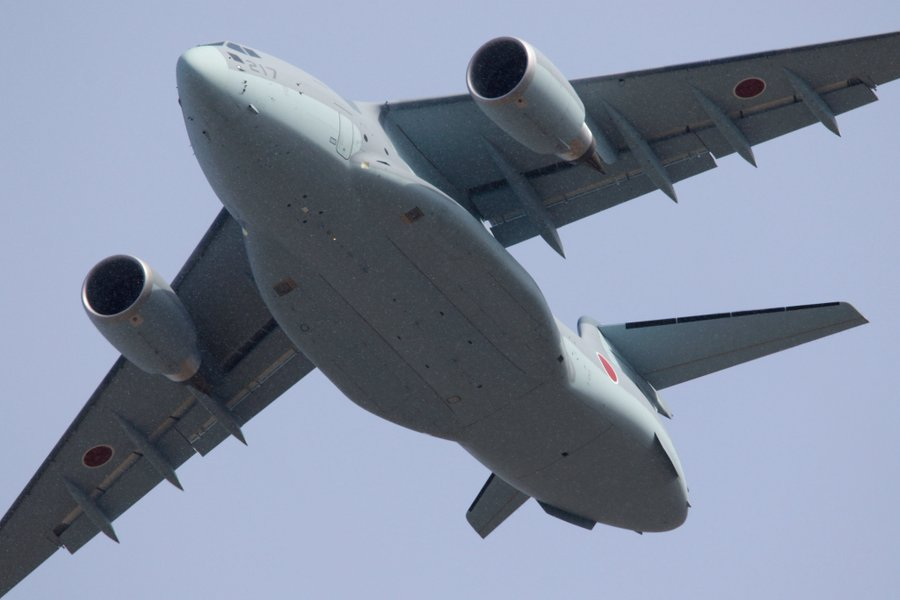airplane: (1, 30, 900, 600)
